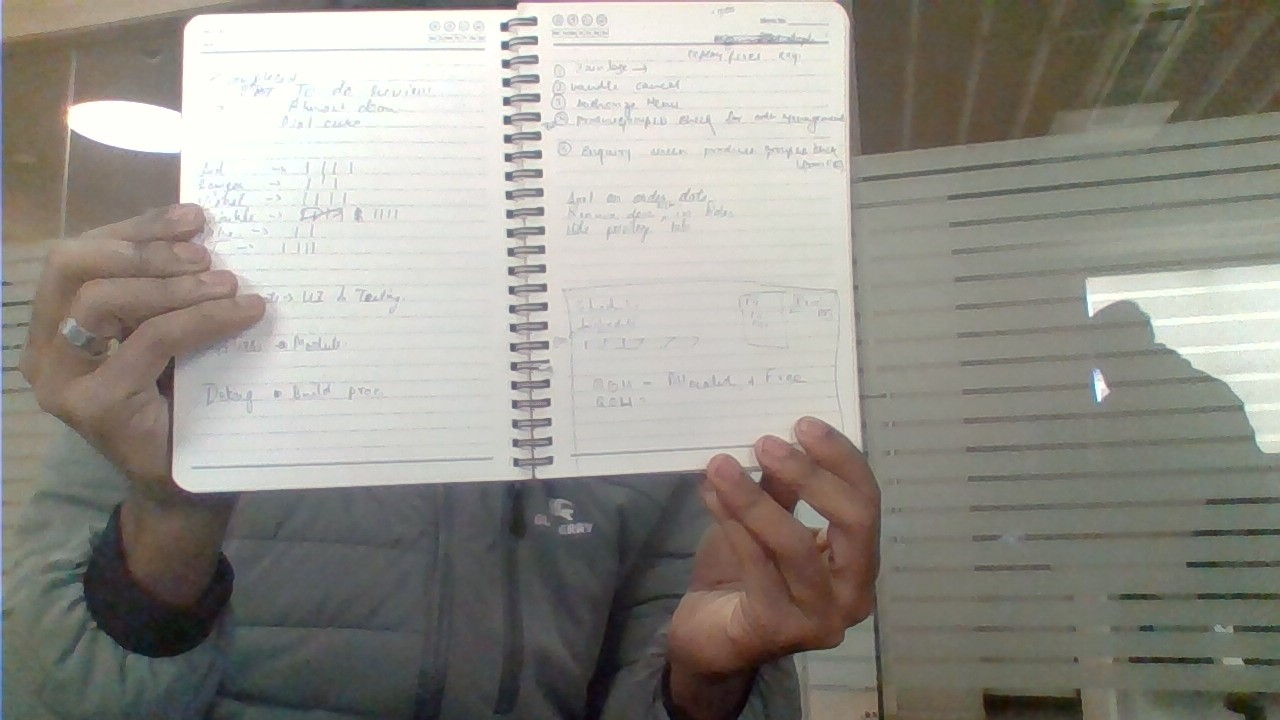notebook: (157, 3, 520, 499), (517, 1, 860, 495)
